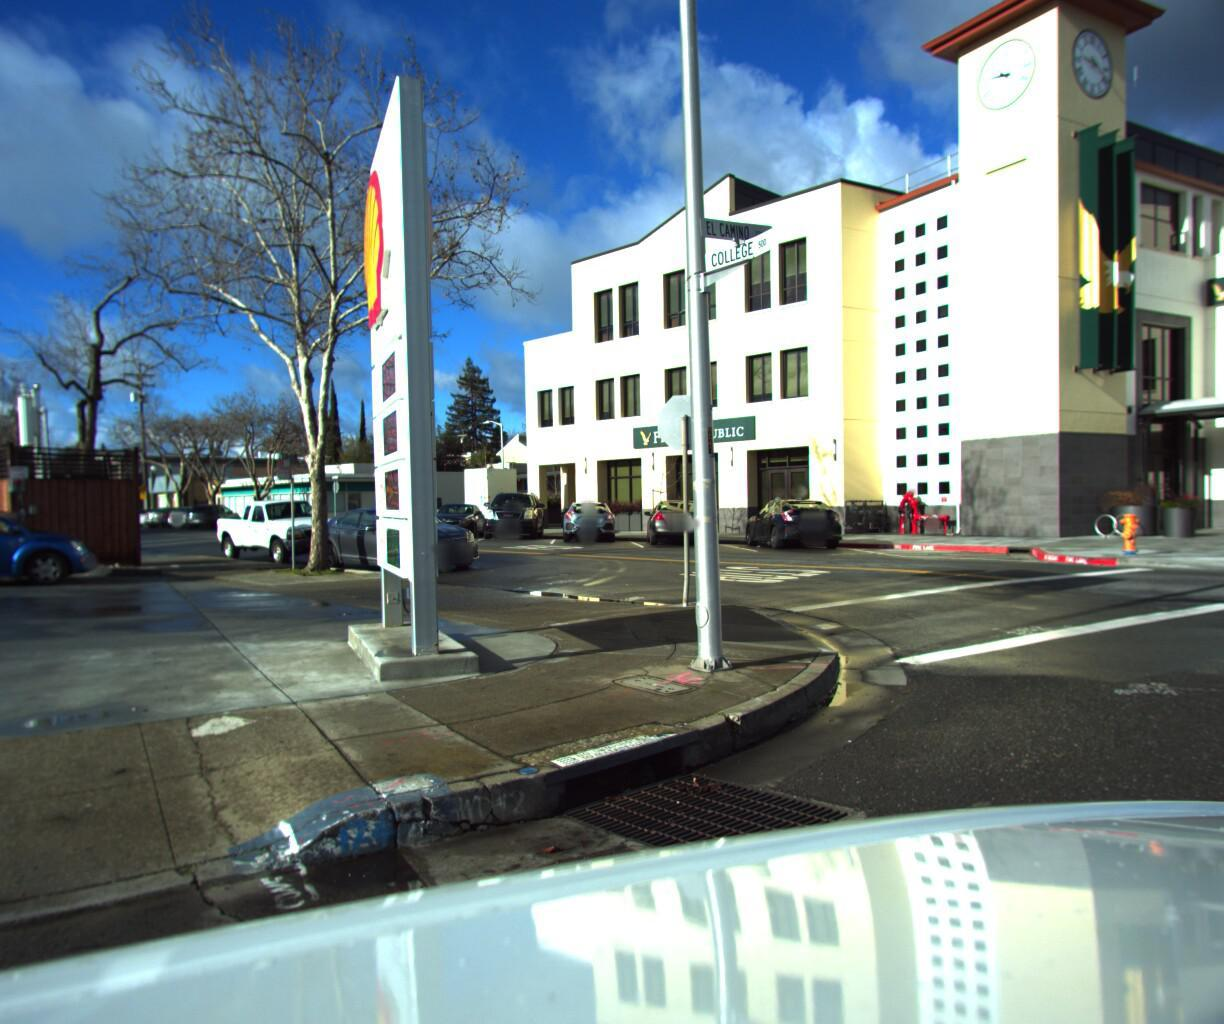car: (304, 500, 493, 579), (209, 493, 358, 563), (0, 495, 104, 591), (0, 473, 85, 577), (740, 492, 853, 551), (647, 494, 716, 546), (485, 491, 543, 542), (567, 497, 625, 542), (426, 499, 489, 540), (160, 502, 225, 529), (128, 501, 182, 525)
